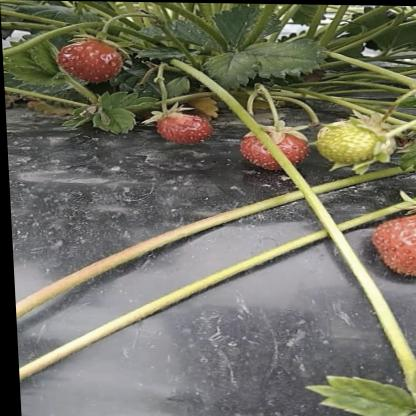ripe: (55, 38, 141, 82), (371, 208, 416, 276), (237, 128, 304, 171), (154, 112, 209, 144)
unripe: (314, 116, 393, 161)
